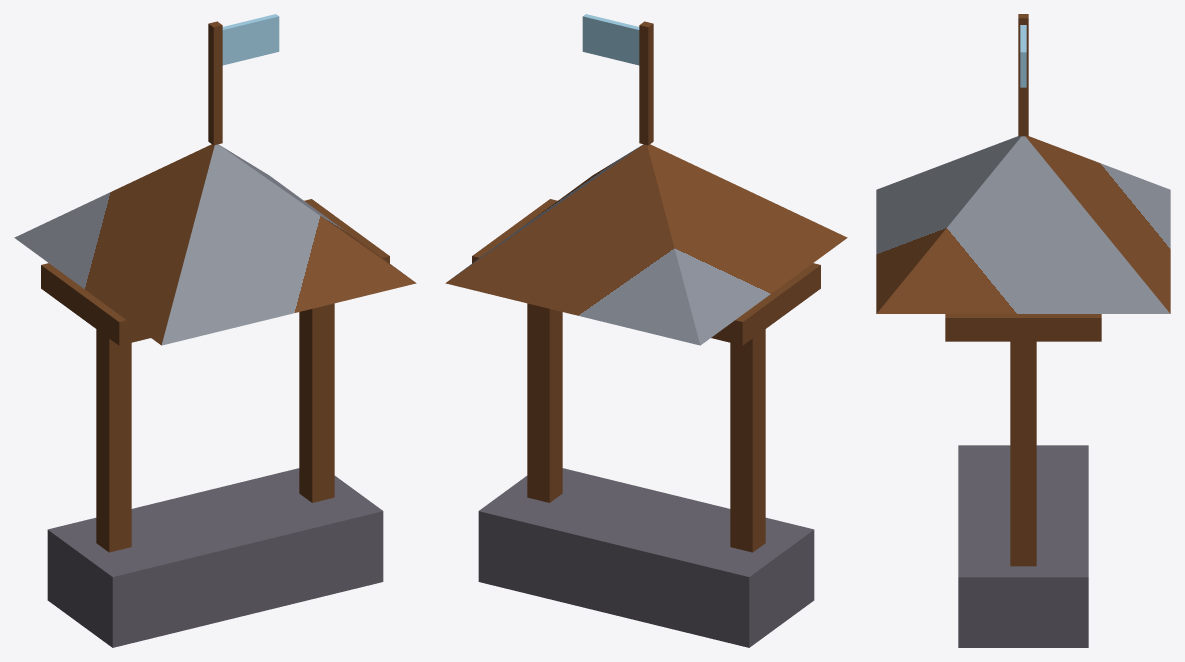
The model's file is tower.obj.
3 views of the same model, side by side, from view 1: azimuth 30°, elevation 25°; view 2: azimuth 150°, elevation 25°; view 3: azimuth 270°, elevation 25° (orthographic).
Parts seen in each view (by area): view 1: Roof, Base, Leg-0.9, Leg0.9, Platform, Flag, Pole; view 2: Roof, Base, Leg-0.9, Leg0.9, Platform, Flag, Pole; view 3: Roof, Base, Leg0.9, Platform, Pole, Flag.
Boxes of the visible parts, x1=… form: Roof: x1=14, y1=144, x2=416, y2=345; Base: x1=47, y1=468, x2=383, y2=647; Leg-0.9: x1=96, y1=329, x2=131, y2=552; Leg0.9: x1=299, y1=303, x2=334, y2=502; Platform: x1=41, y1=199, x2=389, y2=345; Flag: x1=222, y1=14, x2=279, y2=65; Pole: x1=208, y1=21, x2=222, y2=145; Roof: x1=445, y1=144, x2=847, y2=345; Base: x1=478, y1=468, x2=814, y2=647; Leg-0.9: x1=730, y1=329, x2=765, y2=552; Leg0.9: x1=527, y1=303, x2=562, y2=502; Platform: x1=472, y1=199, x2=820, y2=345; Flag: x1=582, y1=14, x2=639, y2=65; Pole: x1=639, y1=21, x2=653, y2=145; Roof: x1=876, y1=136, x2=1170, y2=313; Base: x1=958, y1=445, x2=1088, y2=647; Leg0.9: x1=1010, y1=341, x2=1036, y2=566; Platform: x1=945, y1=314, x2=1101, y2=341; Pole: x1=1018, y1=14, x2=1028, y2=136; Flag: x1=1020, y1=25, x2=1026, y2=87.
Bounding box in the file's own units: 2.4 × 4.8 × 2.26.
4 materials, 1 textured.
